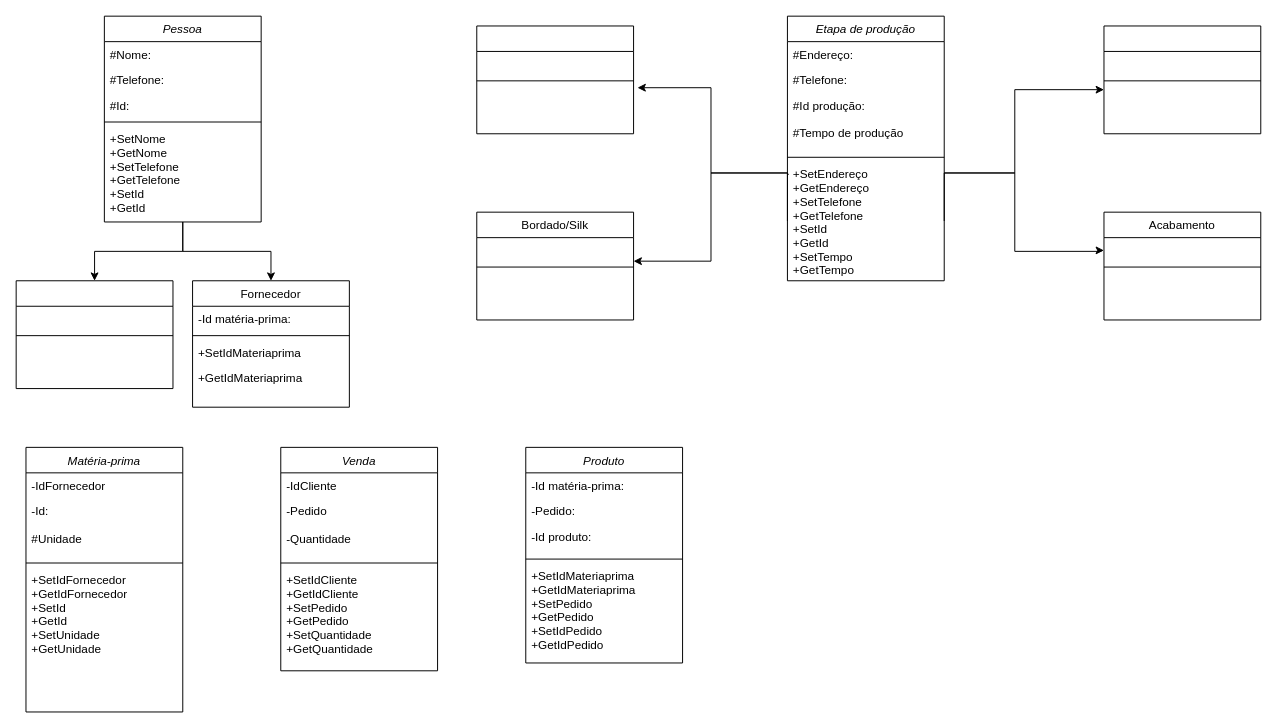
Image size: 1277x728. Some labels were removed from this diagram. Each missing label, with the centre of its shape:
"Cliente" belongs at point 94,334.
"Corte" belongs at point 555,79.
"Costura" belongs at point 1182,79.
